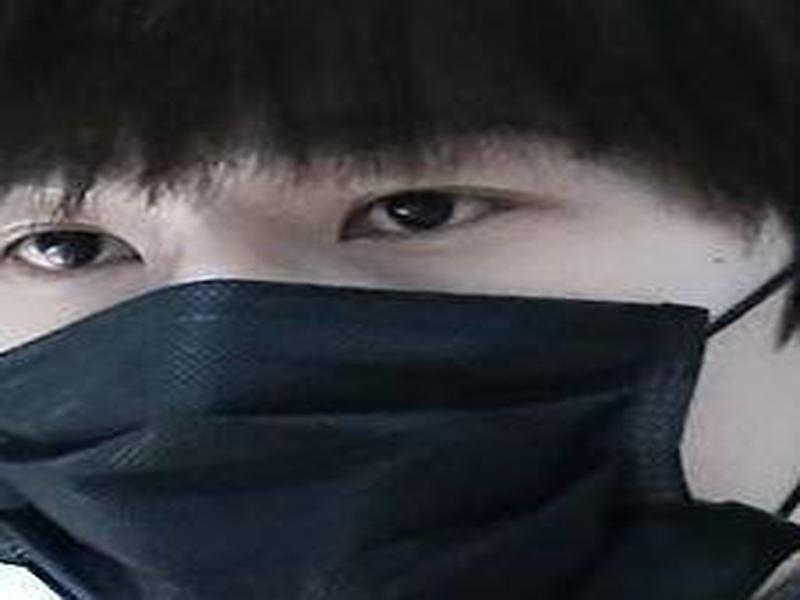with_mask: (1, 4, 797, 600)
